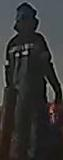gloves: (54, 86, 63, 107)
vest: (3, 33, 49, 103)
